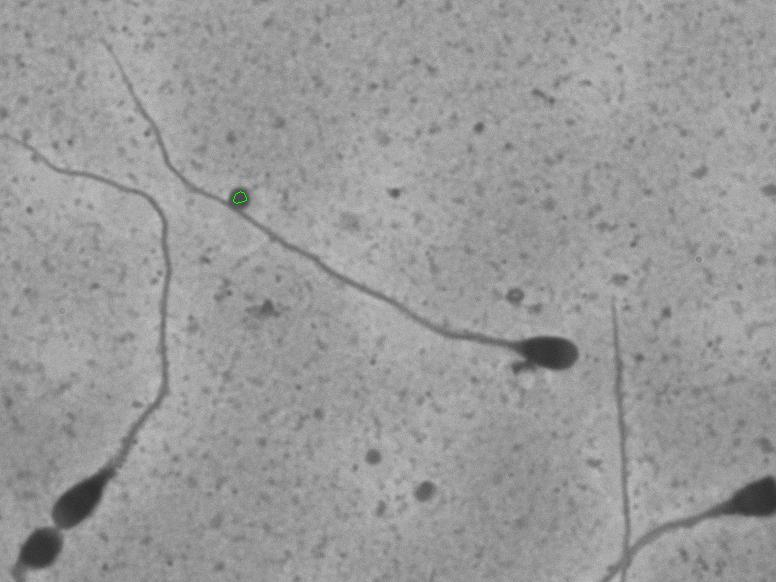Abnormal: (14, 132, 200, 540)
Normal: (72, 22, 601, 395)
